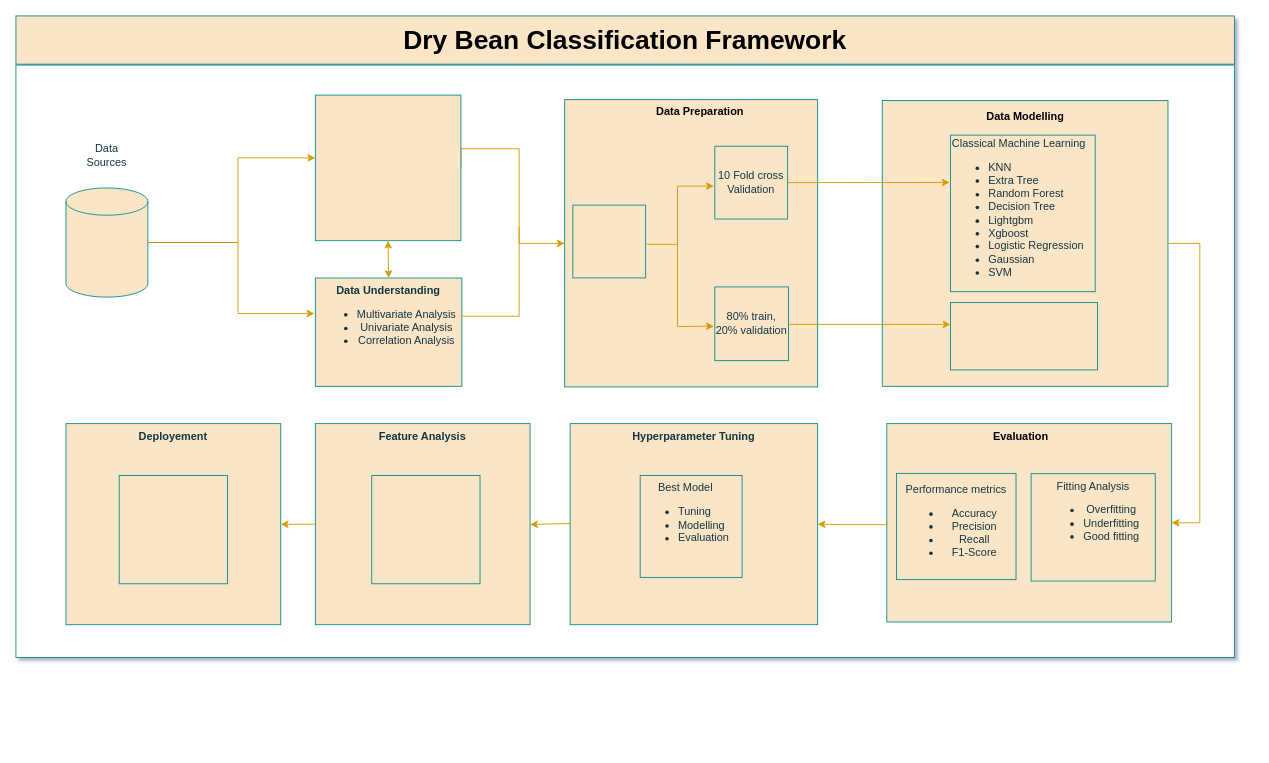
Some shapes in this 1269 by 763 pixel diagram are drawn without their labels. The shapes that lost their labels are listed below. From the top down, each one's centre as x and y in pixels, then its label:
At (x=387, y=167): "Data Preprocessing Duplicates Missing Outliers Encoding Upsampling".
At (x=106, y=242): "Dry Bean Dataset".
At (x=609, y=241): "Data Splitting 90 % Train 10% Test".
At (x=1023, y=336): "Modern Machine Learning Neural Network".
At (x=173, y=529): "Best Model Mobile Apps Deployment Prototype".
At (x=425, y=529): "Best Model Feature Importance".
